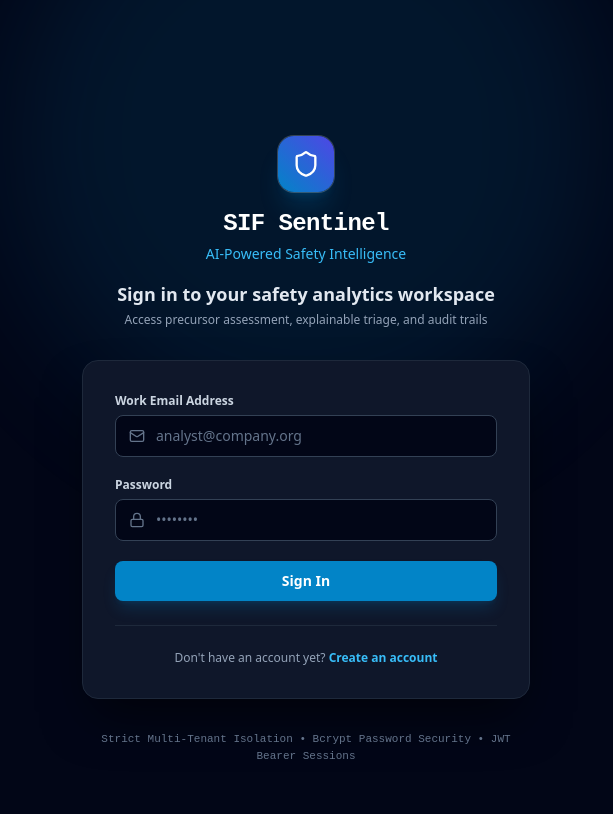
Login Component › validates empty inputs on submit and displays error
Click the button "Sign In": (306, 581) [115,561,497,601]
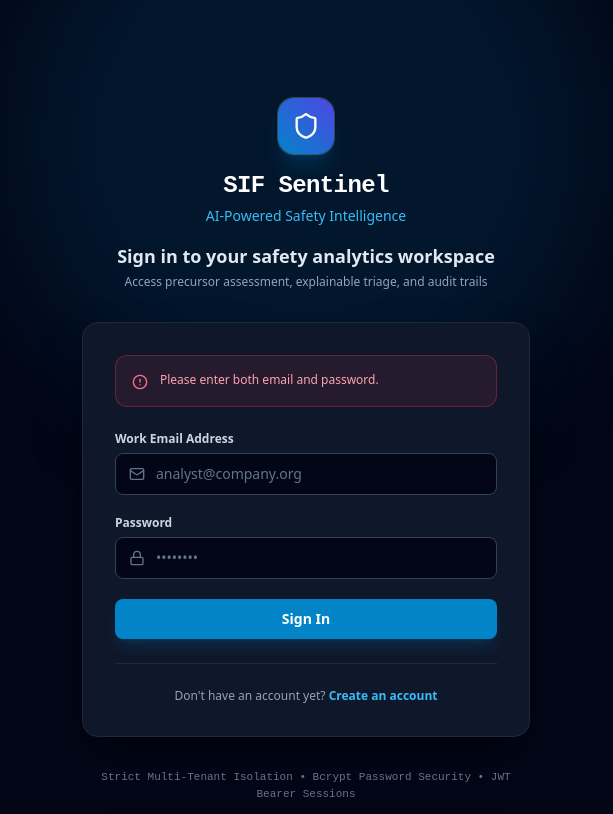
Expected: the message shows "Please enter both email and password", [160,371,379,388]
